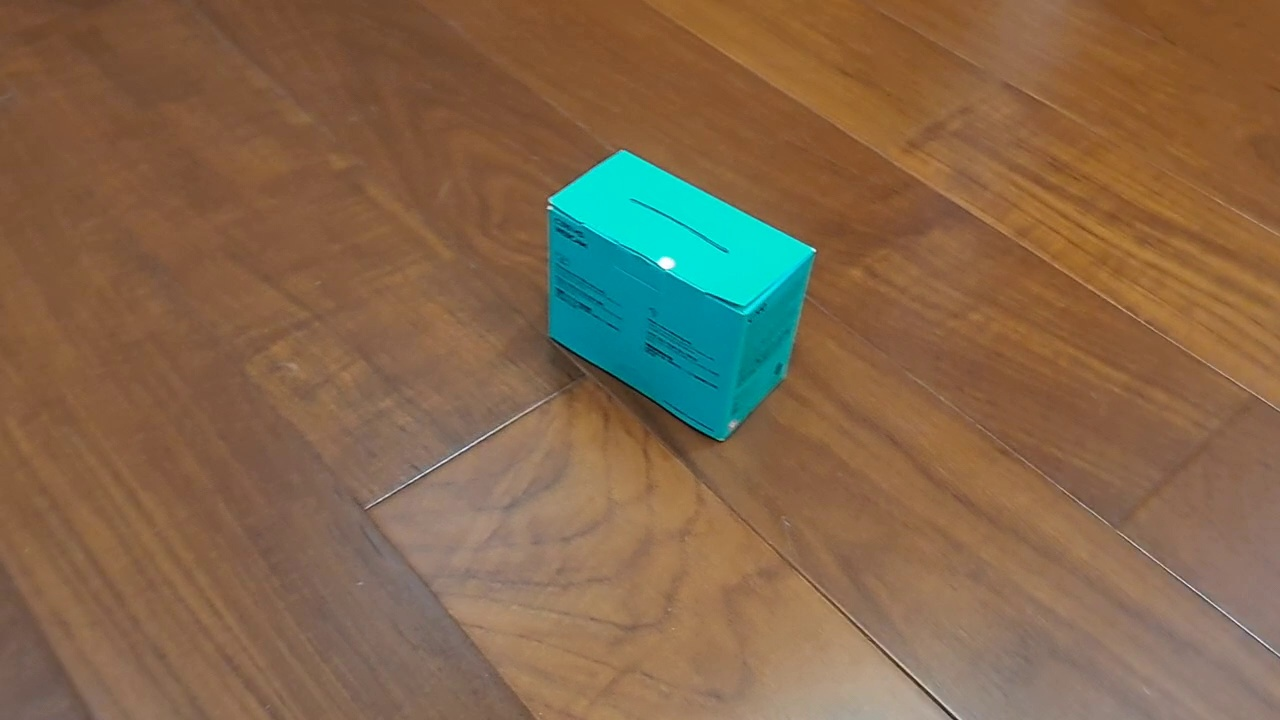webcam: (542, 147, 818, 444)
